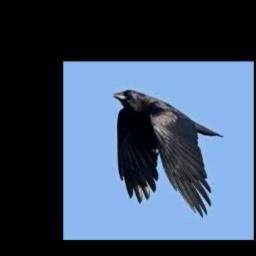Crow: (113, 88, 224, 218)
